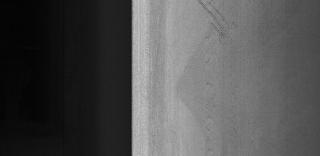silk spot: (204, 60, 253, 152)
water spot: (192, 1, 244, 50)
